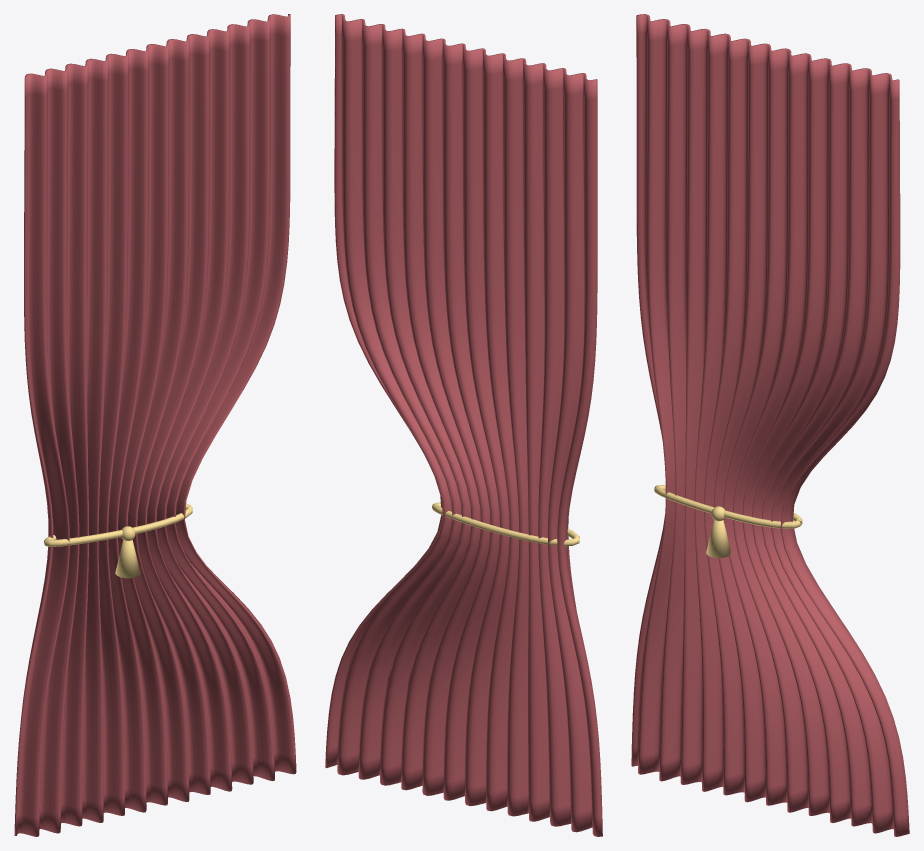
Rendered from drape.glb.
3 renders of one model, left to right at view 1: azimuth 30°, elevation 25°; view 2: azimuth 150°, elevation 25°; view 3: azimuth 330°, elevation 25°, orthographic.
Visible parts, largest first — view 1: drape; view 2: drape; view 3: drape.
Part boxes in pixels (left/top/right/bottom): drape: left=14, top=14, right=296, bottom=836; drape: left=325, top=14, right=602, bottom=836; drape: left=631, top=14, right=909, bottom=836.
Bounding box in the file's own units: 6.39 × 16.52 × 1.04.
